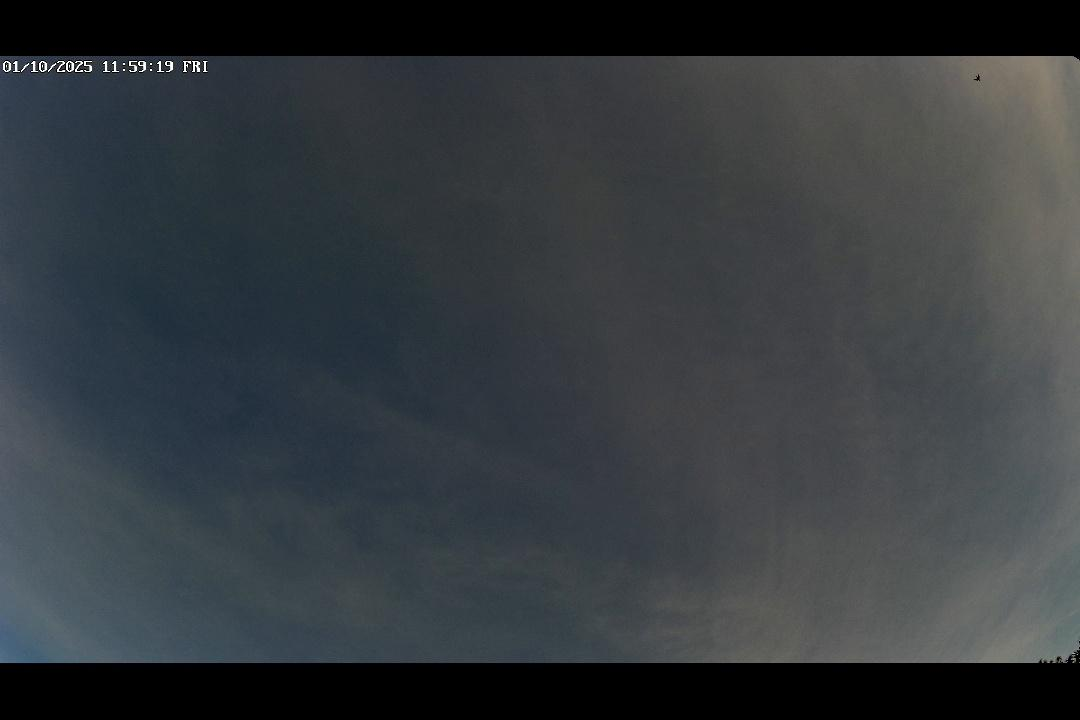WildLife: (963, 71, 990, 86)
